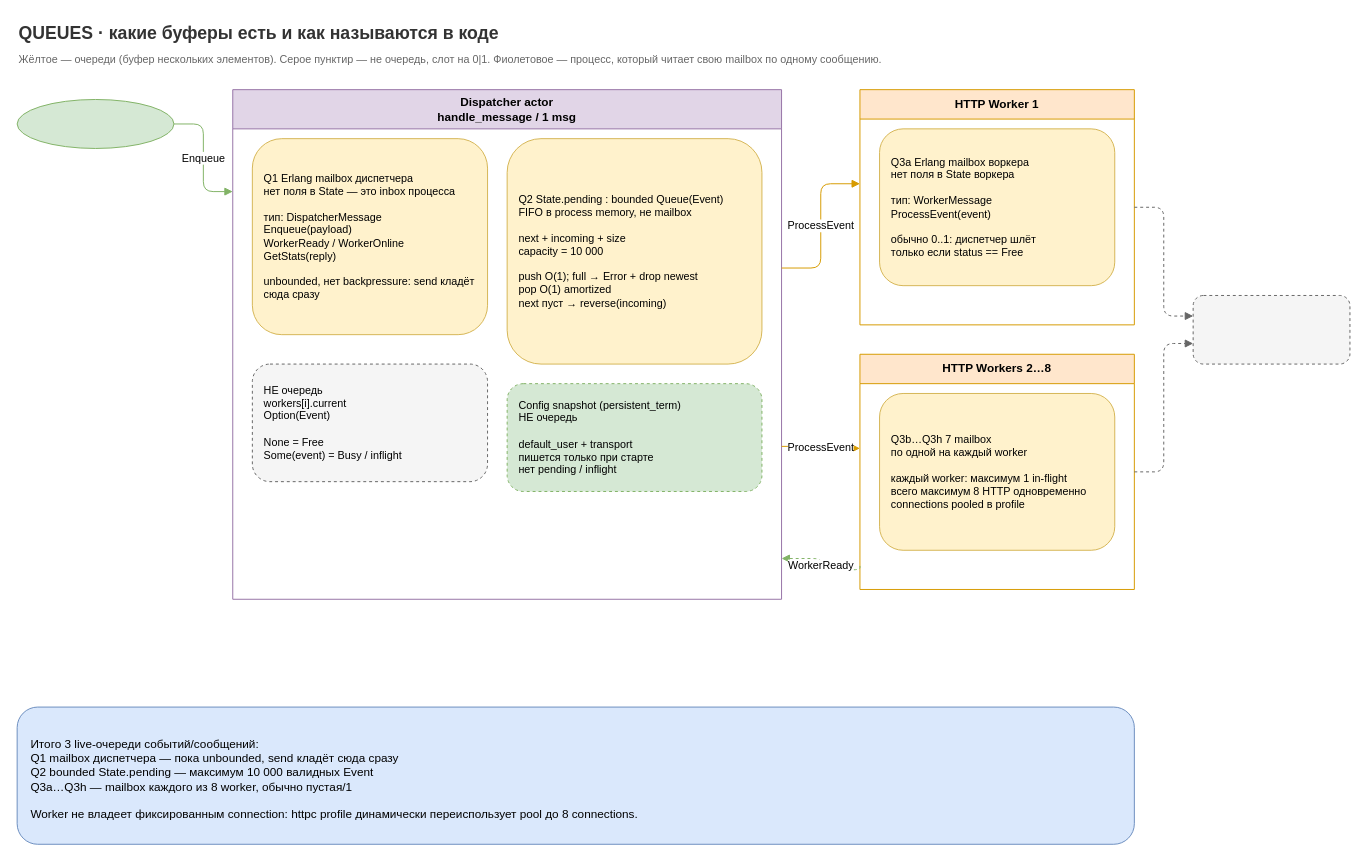
Some shapes in this 1367 by 861 pixel diagram are drawn without their labels. Each missing label, with the centre of its shape:
"hawk.send(payload)" belongs at (95,123).
"httpc profile hawk_gleam max 8 sessions/connections collector" belongs at (1271,329).
